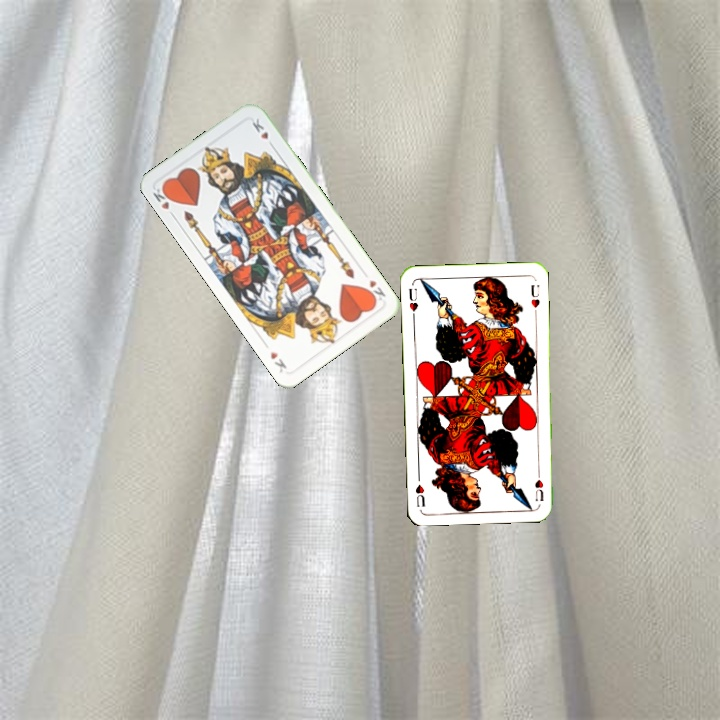HK: (148, 181, 178, 221), (362, 276, 388, 305)
HU: (531, 465, 546, 504), (405, 284, 420, 321)
